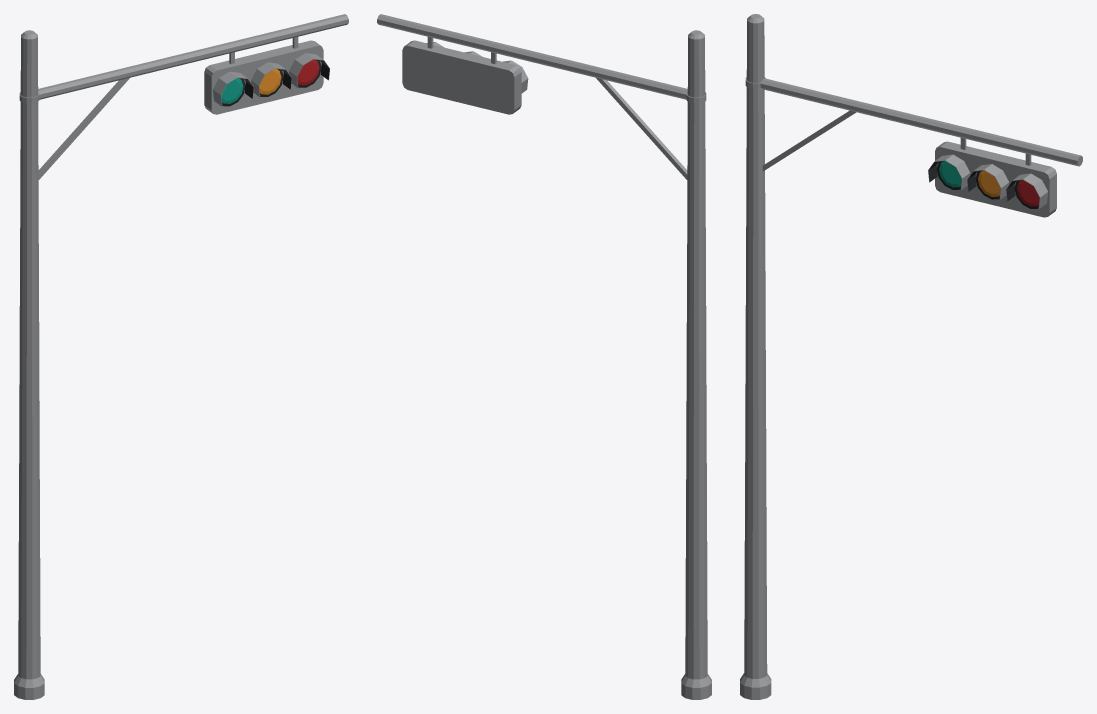
File: SM_Street_TrafficSignal_Galv_300_01.gltf
3 renders of one model, left to right at view 1: azimuth 30°, elevation 25°; view 2: azimuth 150°, elevation 25°; view 3: azimuth 330°, elevation 25°, orthographic. The views are drawn at different scales.
Parts seen in each view (by area): view 1: SM_Street_TrafficSignal_Galv_300_01; view 2: SM_Street_TrafficSignal_Galv_300_01; view 3: SM_Street_TrafficSignal_Galv_300_01.
Boxes of the visible parts, <box> form: SM_Street_TrafficSignal_Galv_300_01: <box>14,14,348,699</box>; SM_Street_TrafficSignal_Galv_300_01: <box>377,14,711,699</box>; SM_Street_TrafficSignal_Galv_300_01: <box>740,14,1082,699</box>.
Bounding box in the file's own units: 3.13 × 5.98 × 0.3156.
1 material, 1 textured.
